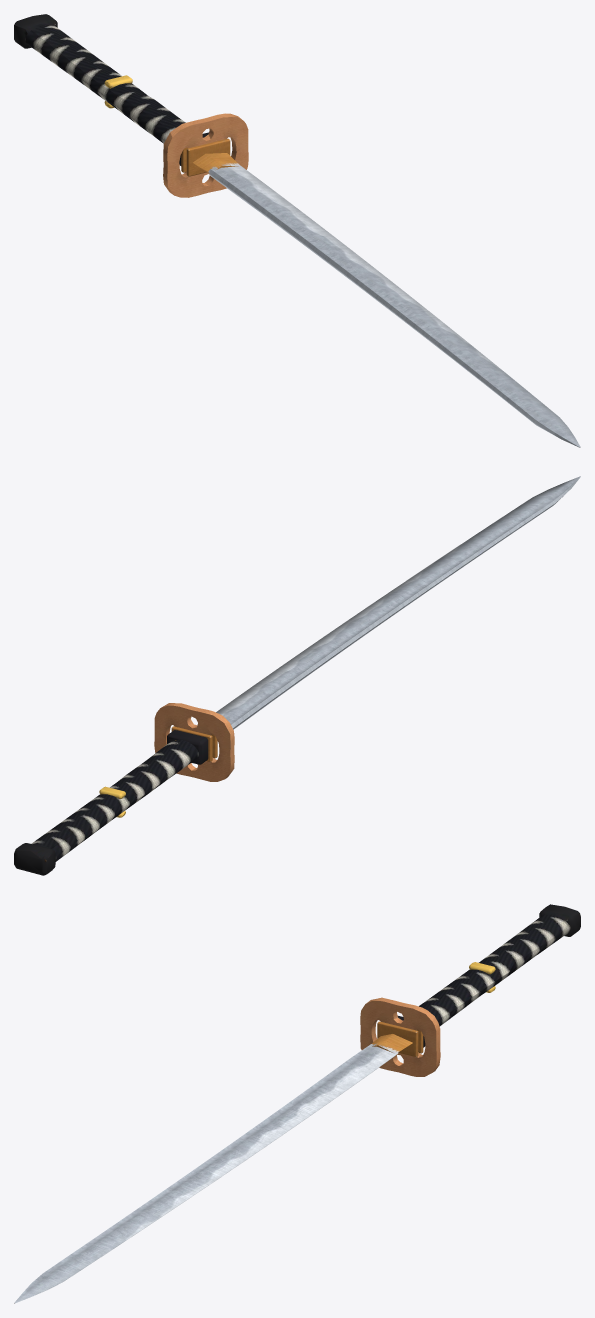
Rendered from katana_LOD1.glb.
The picture shows the model from 3 angles, top to bottom: view 1: azimuth 30°, elevation 25°; view 2: azimuth 150°, elevation 25°; view 3: azimuth 330°, elevation 25°; orthographic projection. The views are drawn at different scales.
Parts seen in each view (by area): view 1: SM_katana_Body; view 2: SM_katana_Body; view 3: SM_katana_Body.
Part boxes in pixels (box(x1,y1,x2,y2)): SM_katana_Body: box(14, 14, 580, 447); SM_katana_Body: box(14, 476, 580, 875); SM_katana_Body: box(14, 904, 580, 1303).
Bounding box in the file's own units: 0.081 × 0.0686 × 0.9804.
Materials: 1 (1 with a texture image).
